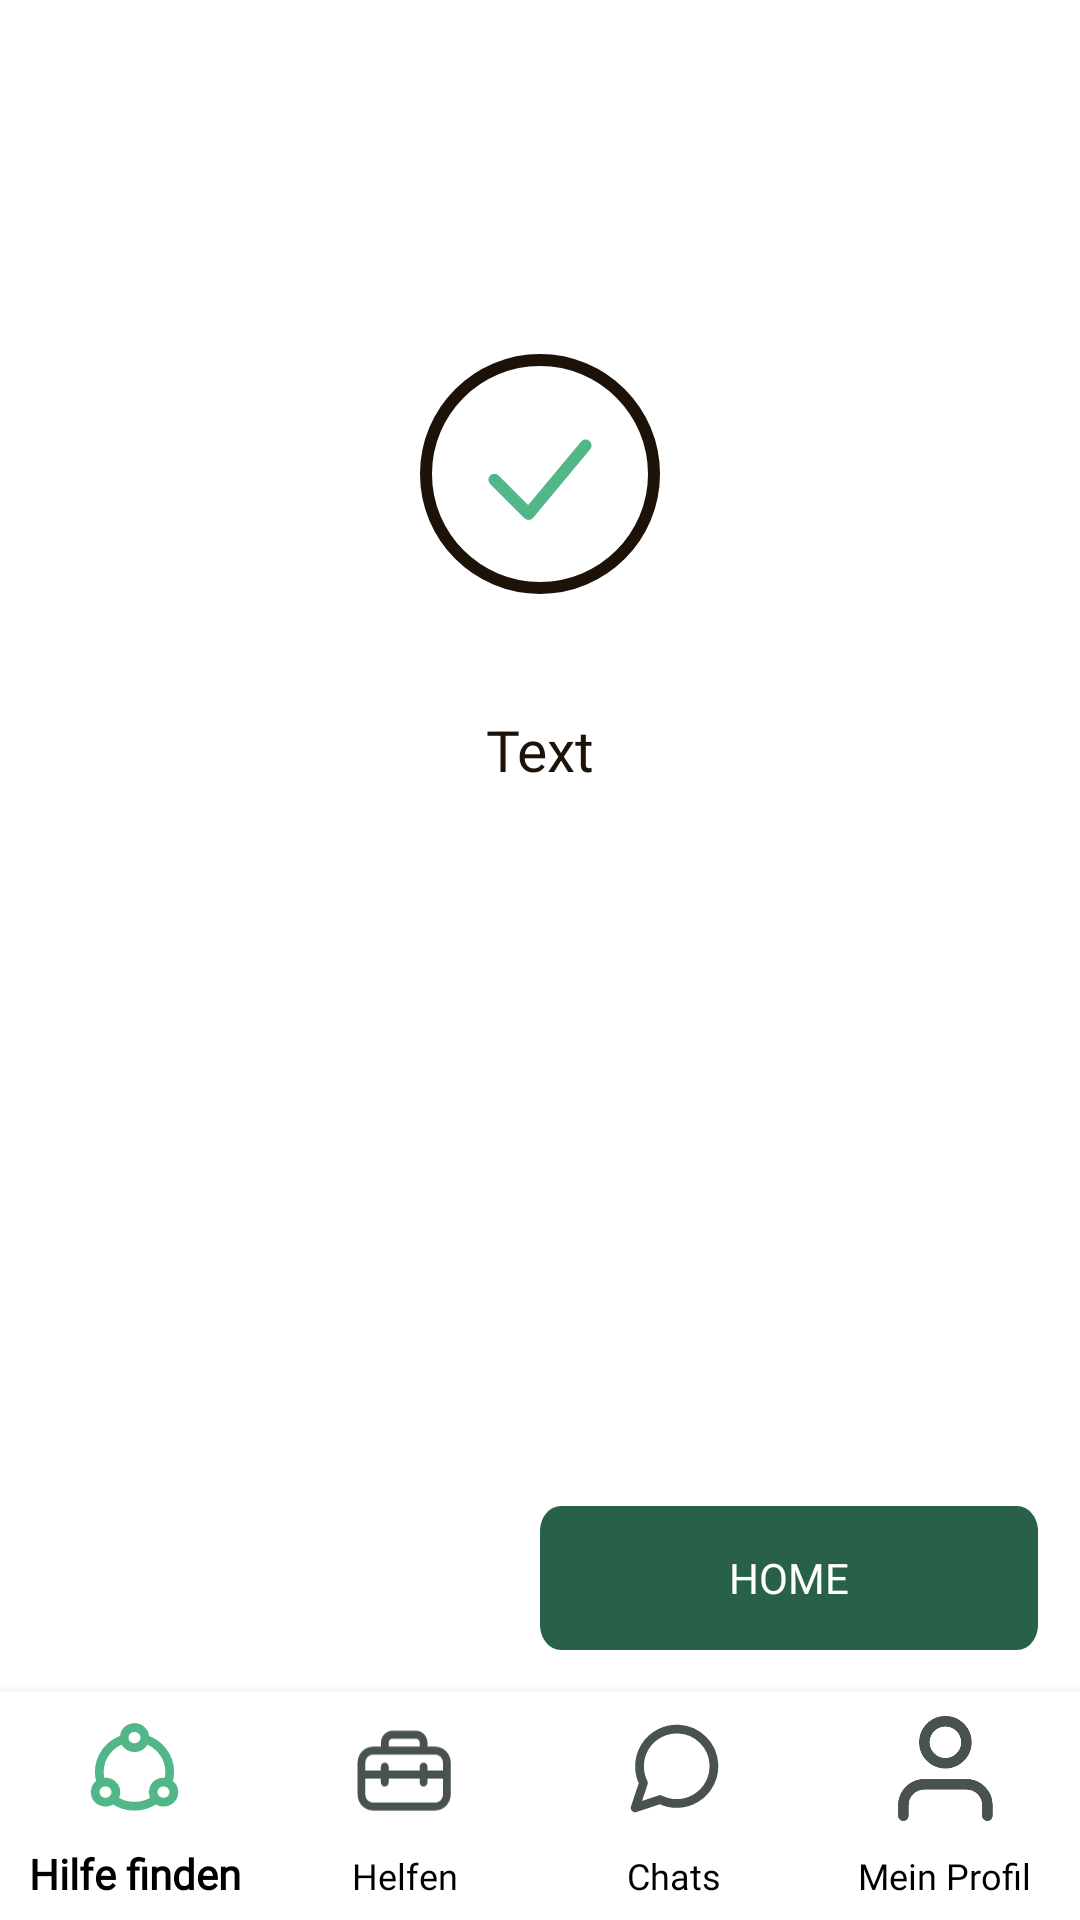

Icon click points for this 1080×1920 phone screenshot, format (x,y):
ticket erledigt: (540,474)
